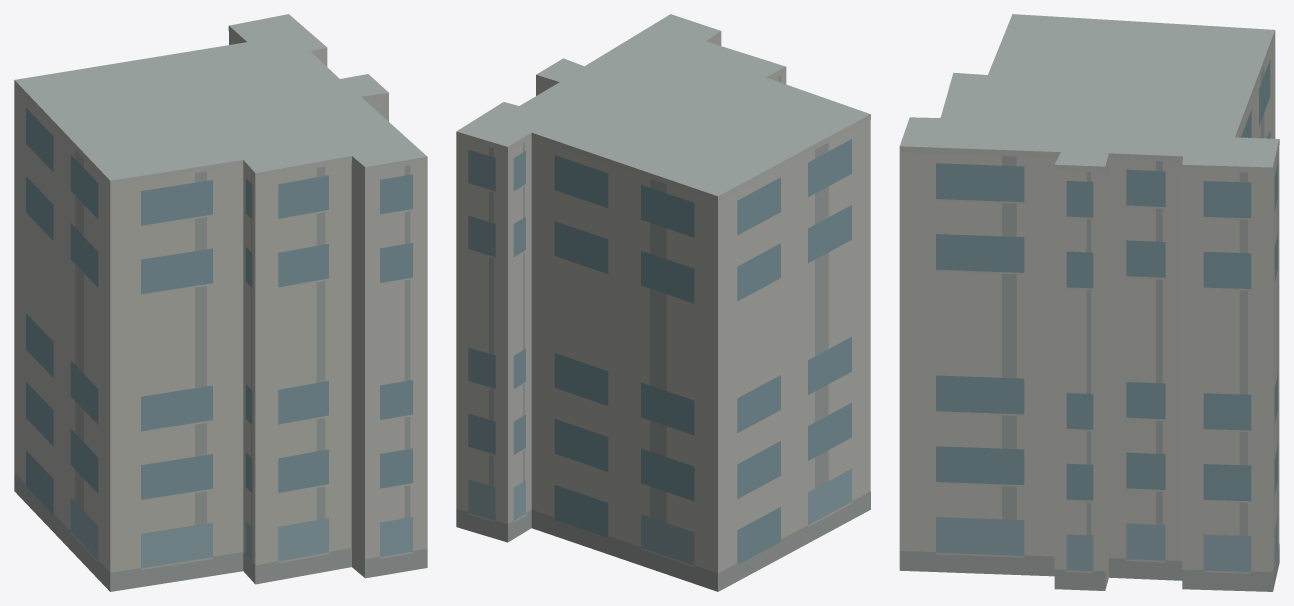
Rendered from survey-upis-32942542.glb.
3 renders of one model, left to right at view 1: azimuth 30°, elevation 25°; view 2: azimuth 150°, elevation 25°; view 3: azimuth 270°, elevation 25°, orthographic. The views are drawn at different scales.
Parts seen in each view (by area): view 1: survey-upis-32942542.tmp; view 2: survey-upis-32942542.tmp; view 3: survey-upis-32942542.tmp.
Boxes of the visible parts, x1=… form: survey-upis-32942542.tmp: x1=14, y1=14, x2=427, y2=591; survey-upis-32942542.tmp: x1=456, y1=14, x2=870, y2=591; survey-upis-32942542.tmp: x1=899, y1=14, x2=1279, y2=591.
Bounding box in the file's own units: 13.43 × 17.3 × 14.04.
